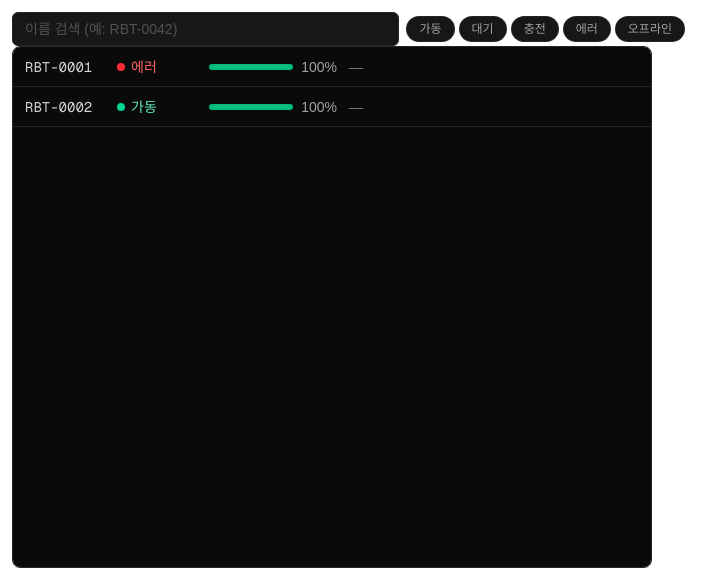
Test: 상태 필터 › '에러' 토글을 켜면 error 로봇만 리스트에 남는다
This screenshot has width=702, height=585.
Expected: the text "RBT-0001" is shown, left=25, top=58, right=92, bottom=76
Expected: the text "RBT-0002" is shown, left=25, top=98, right=92, bottom=116
# "에러" 필터 토글 클릭
Click the button "에러".
click(587, 29)  # box left=564, top=17, right=610, bottom=41
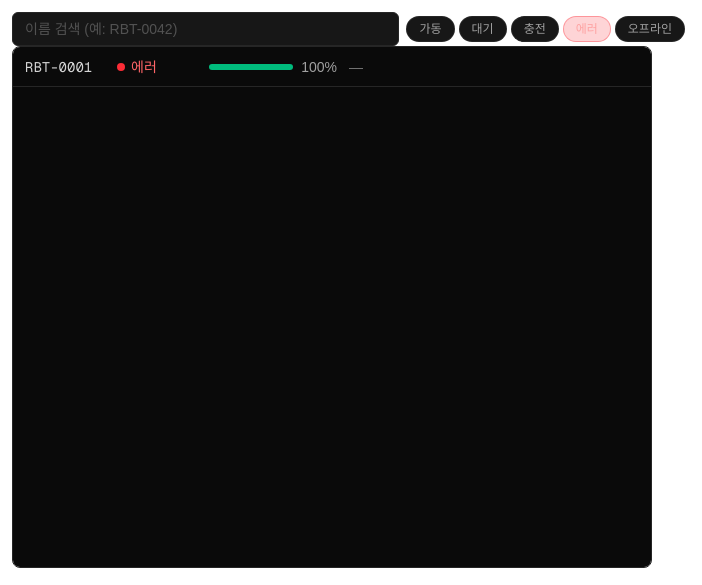
Expected: the text "RBT-0001" is shown, left=25, top=58, right=92, bottom=76
Now the text "RBT-0002" is gone
